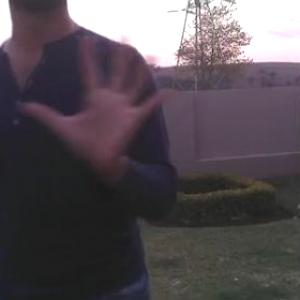follow_hand: (15, 28, 174, 172)
